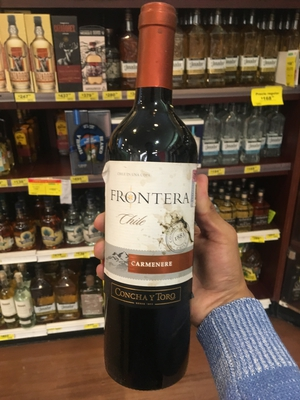frontera carmenere: (96, 8, 219, 400)
